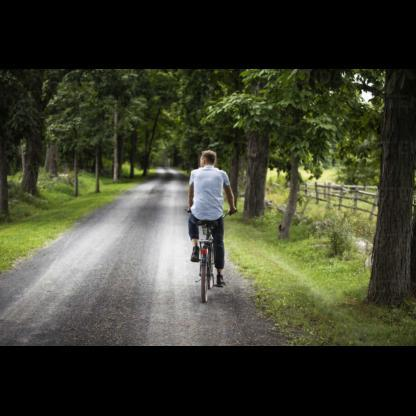Bicycle: (172, 200, 251, 315)
